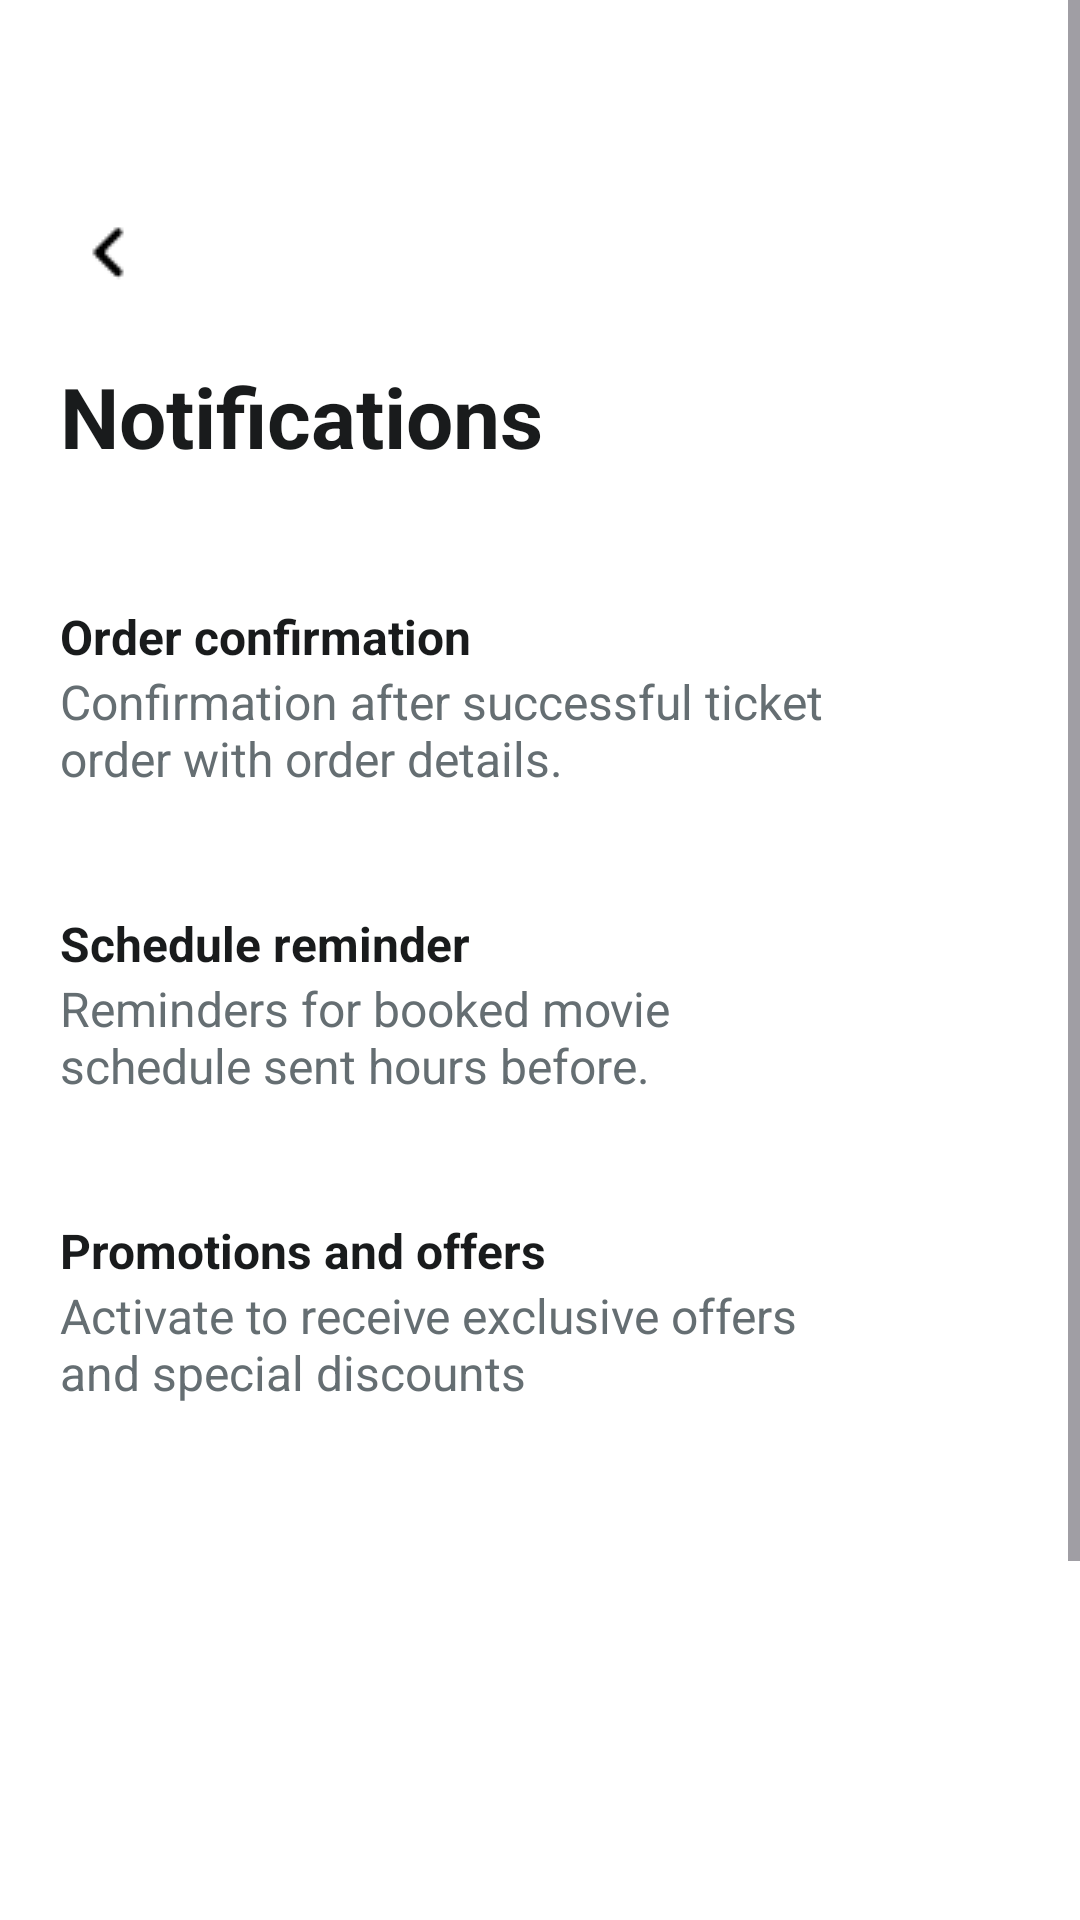

Where to tap for icons on this 1080 × 1920 app screen, as [x,y]:
Back: [108,252]
